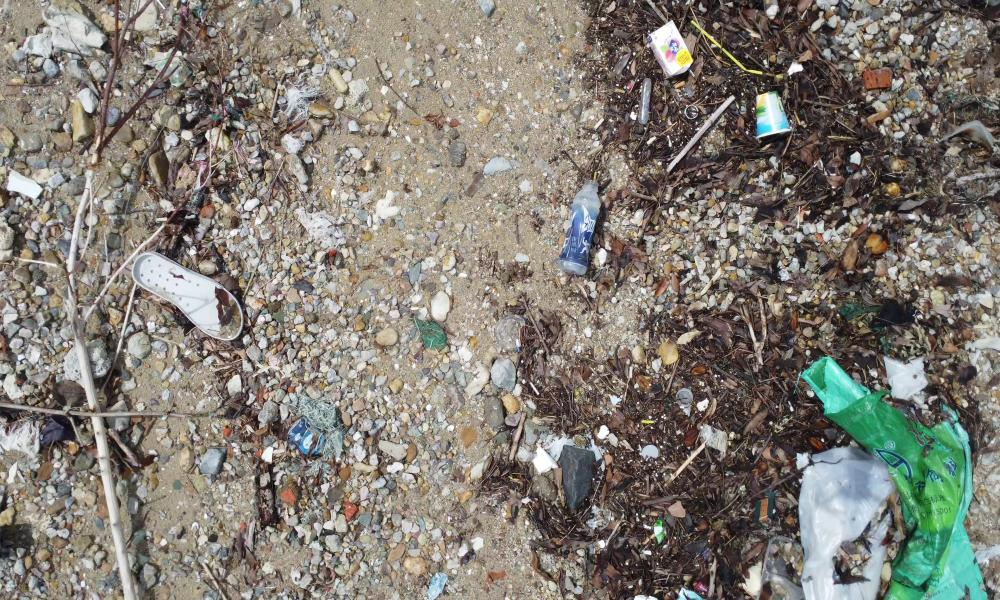carton: (645, 13, 701, 81), (756, 93, 803, 142)
plastic bag: (799, 350, 1000, 599), (791, 450, 909, 600)
plastic bottle: (556, 182, 607, 281)
